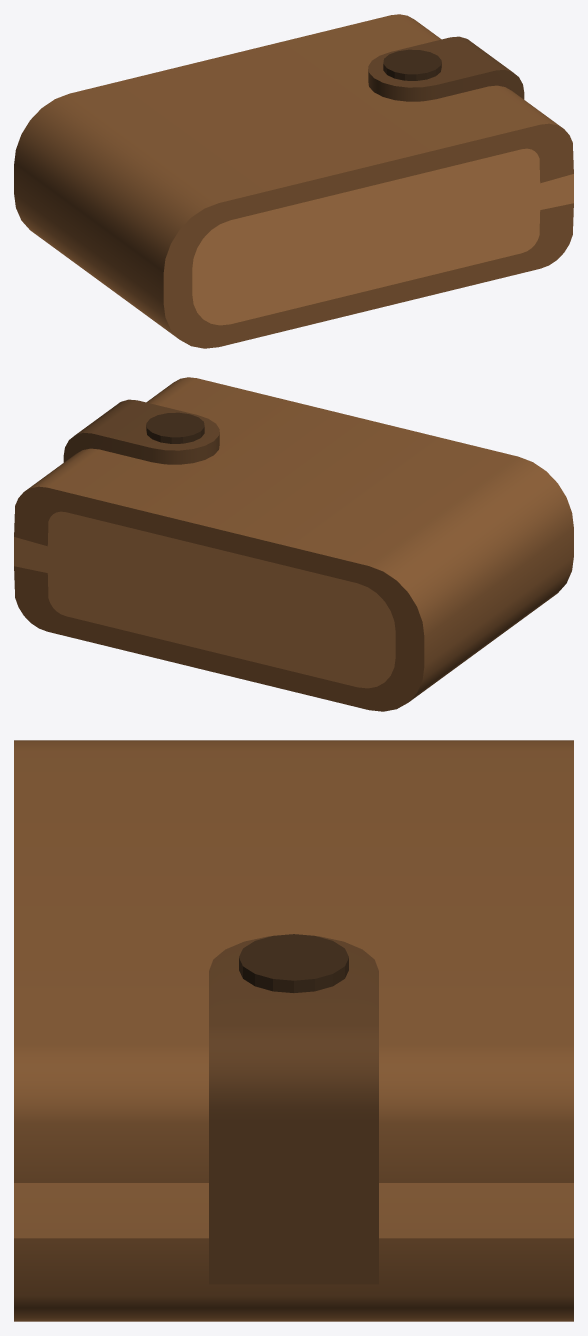
The model's file is Wallet.fbx.
3 views of the same model, one above another, from view 1: azimuth 30°, elevation 25°; view 2: azimuth 150°, elevation 25°; view 3: azimuth 270°, elevation 25° (orthographic). The views are drawn at different scales.
Parts seen in each view (by area): view 1: Wallet; view 2: Wallet; view 3: Wallet.
Part boxes in pixels (box(x1,y1,x2,y2)): Wallet: box(14, 14, 573, 348); Wallet: box(14, 377, 573, 711); Wallet: box(14, 740, 573, 1321).
Size of the model in its own units: 0.4133 by 0.1577 by 0.2592.
